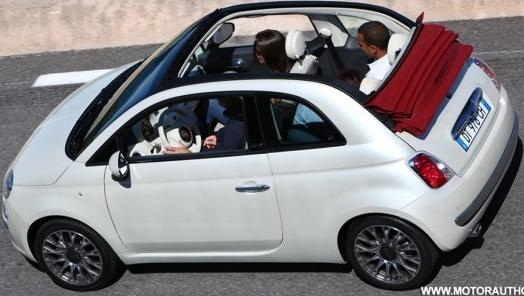back_view: (407, 59, 518, 233)
backlight: (393, 136, 455, 201)
side_glass: (110, 92, 283, 164)
